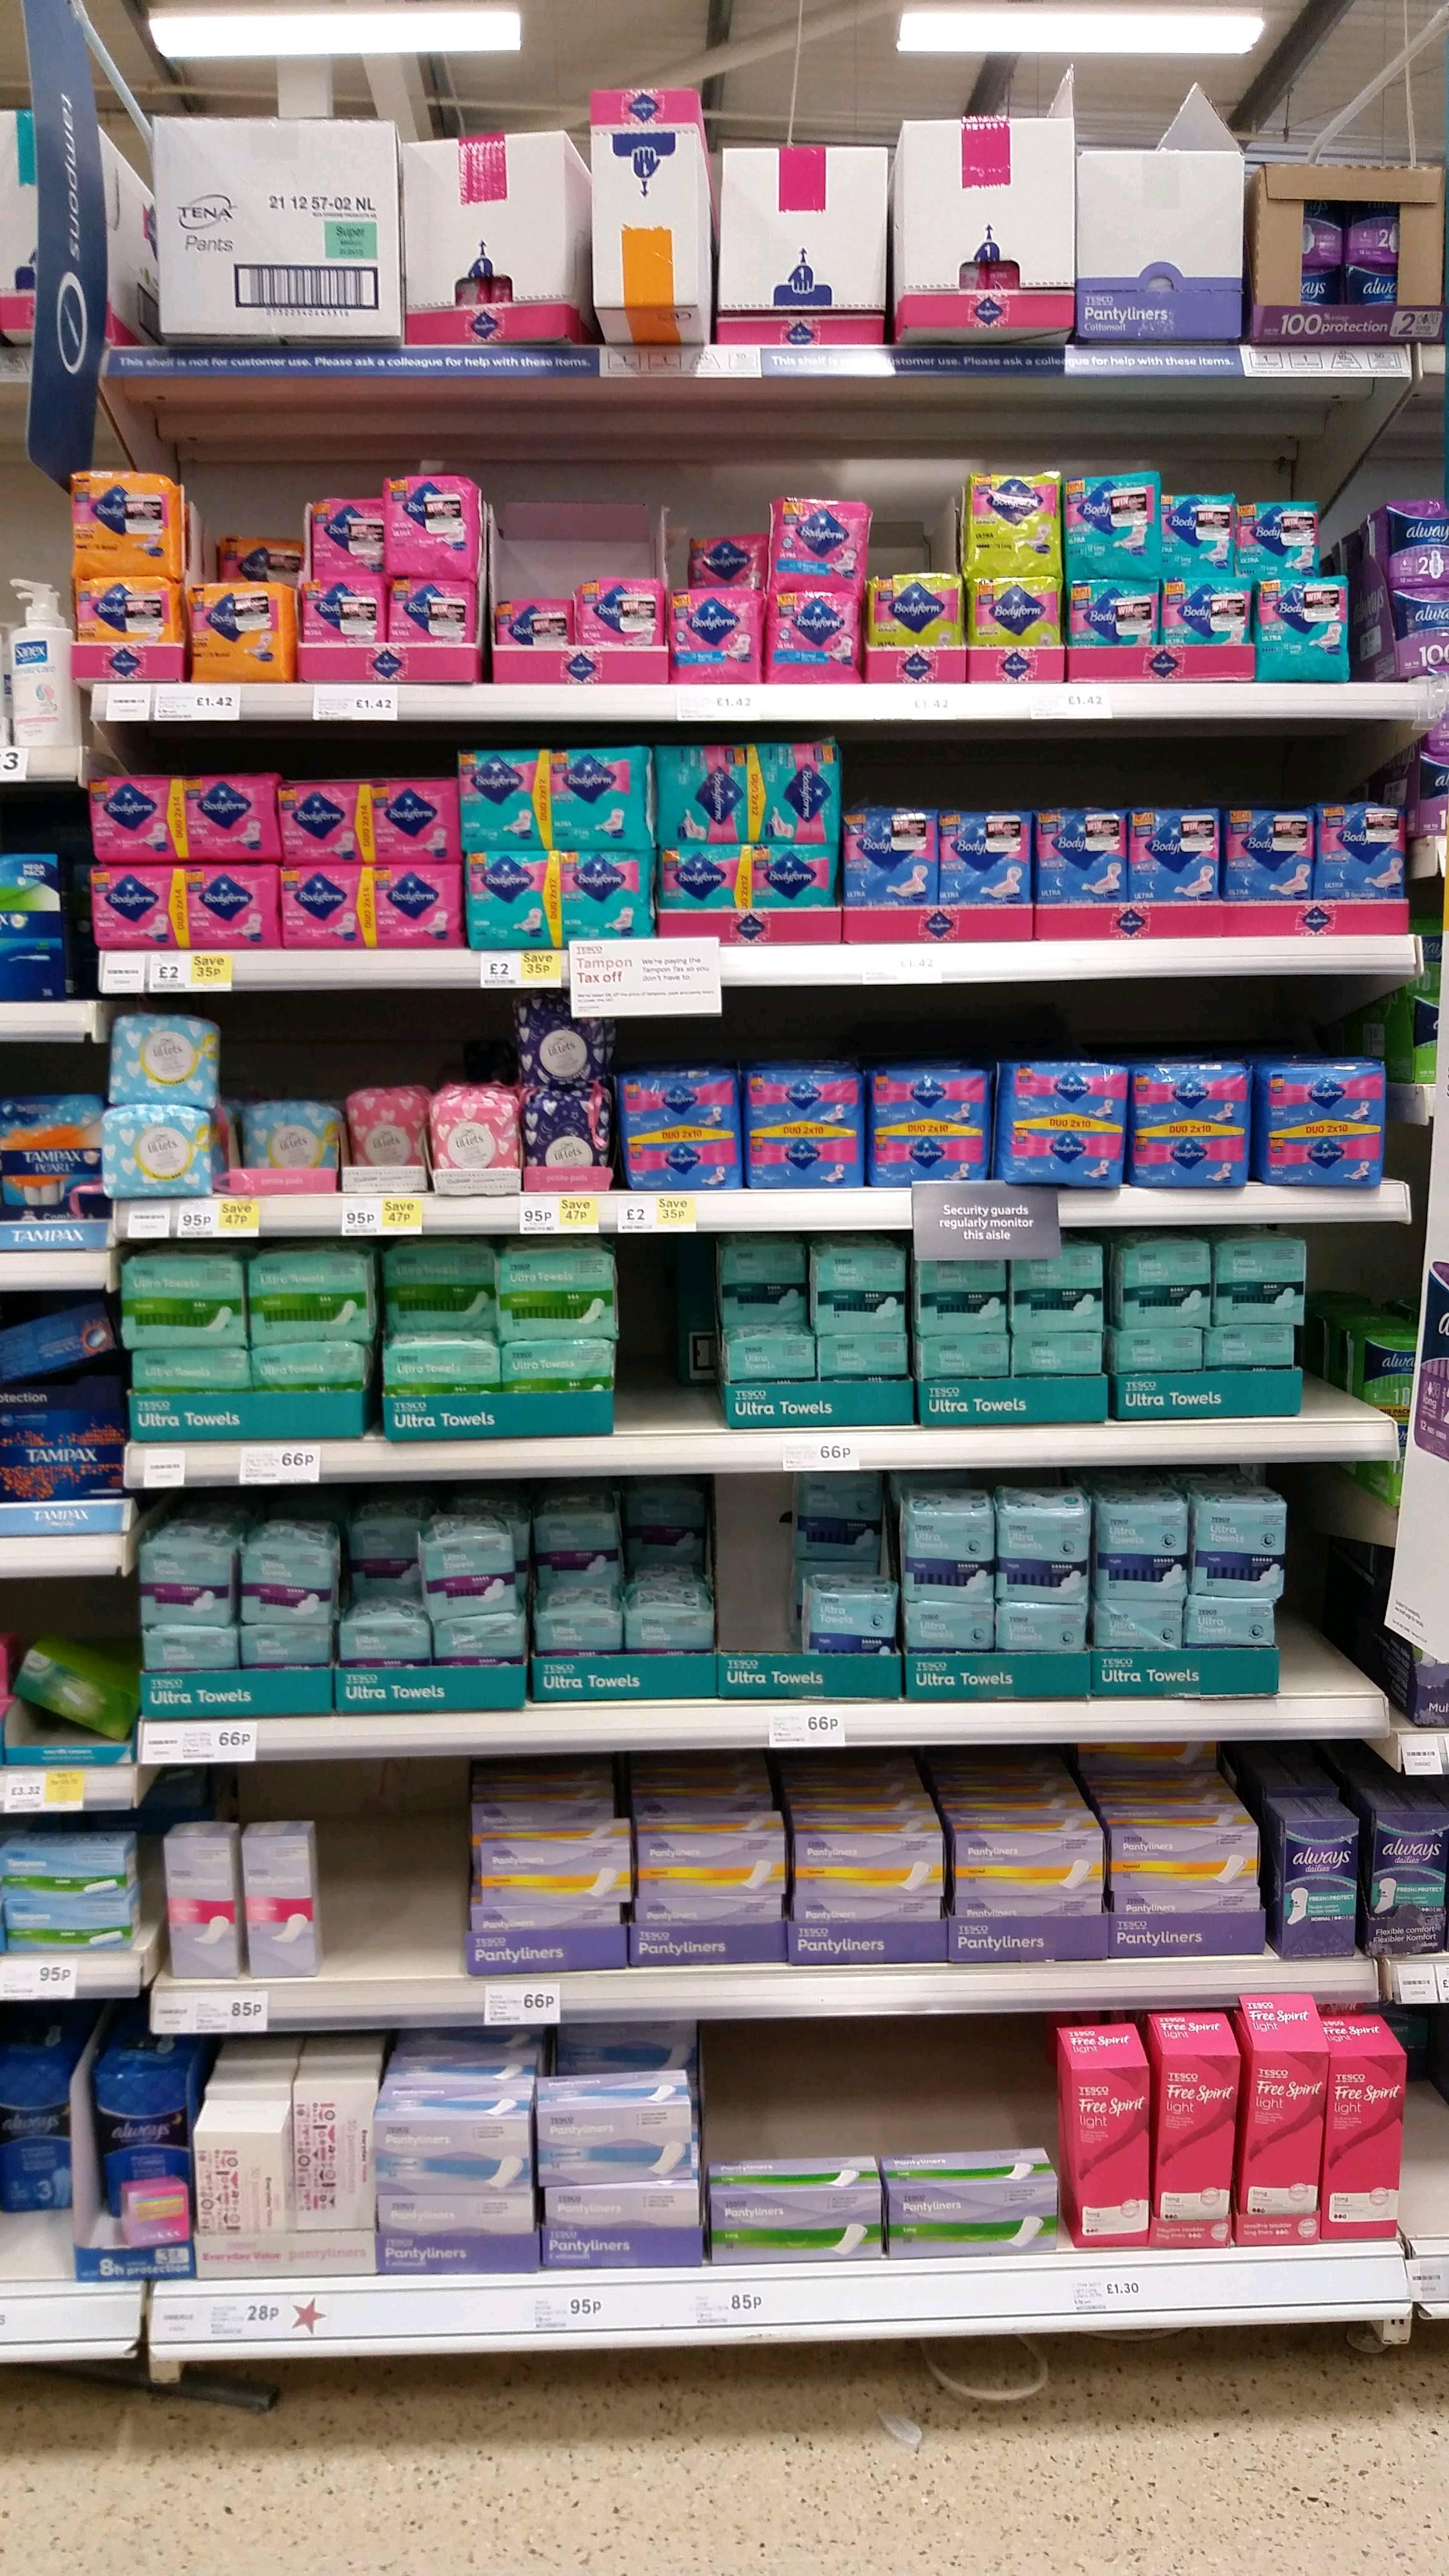empty: (334, 1780, 451, 1969), (720, 1484, 789, 1656), (625, 1254, 686, 1428)
misalignment: (111, 2178, 195, 2261)
